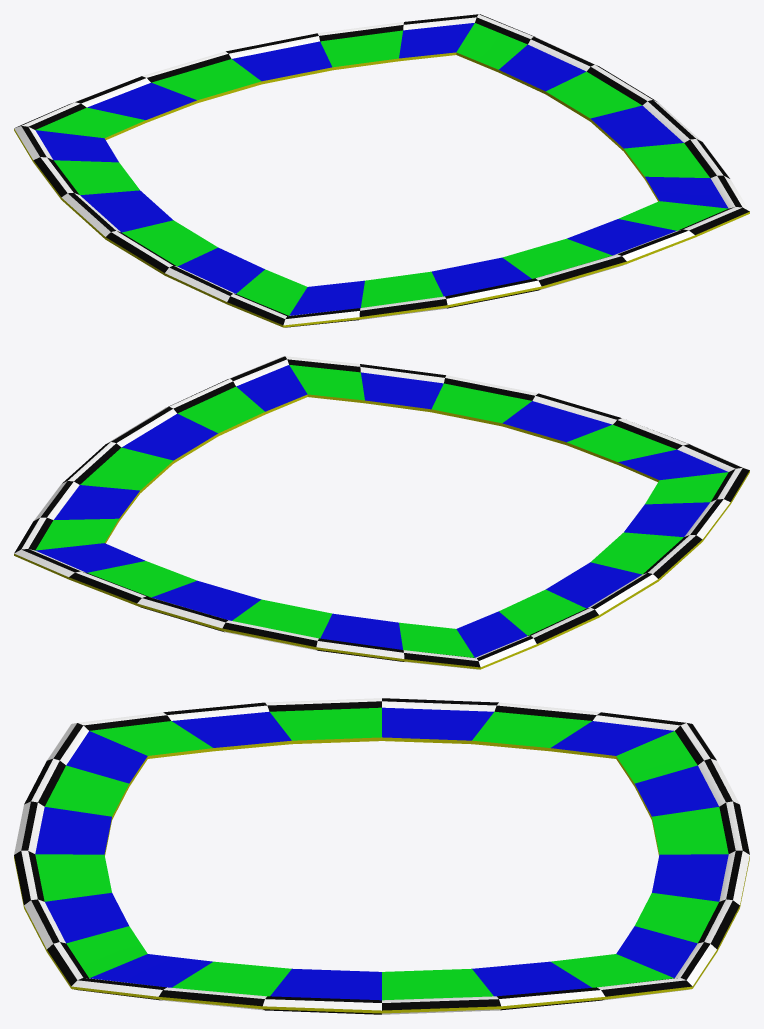
The model's file is FPV_Hoop.fbx.
3 renders of one model, top to bottom at view 1: azimuth 30°, elevation 25°; view 2: azimuth 150°, elevation 25°; view 3: azimuth 270°, elevation 25°, orthographic. The views are drawn at different scales.
Visible parts, largest first — view 1: FPV_Hoop; view 2: FPV_Hoop; view 3: FPV_Hoop.
Boxes of the visible parts, <box> form: FPV_Hoop: <box>14,14,749,327</box>; FPV_Hoop: <box>14,356,749,669</box>; FPV_Hoop: <box>14,698,749,1014</box>.
Bounding box in the file's own units: 640 × 11.2 × 640.
